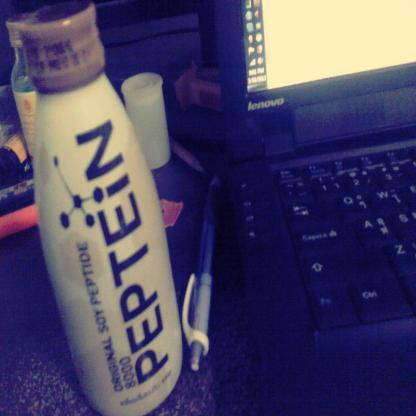board: (167, 0, 405, 382), (21, 1, 182, 416), (6, 14, 34, 186)
